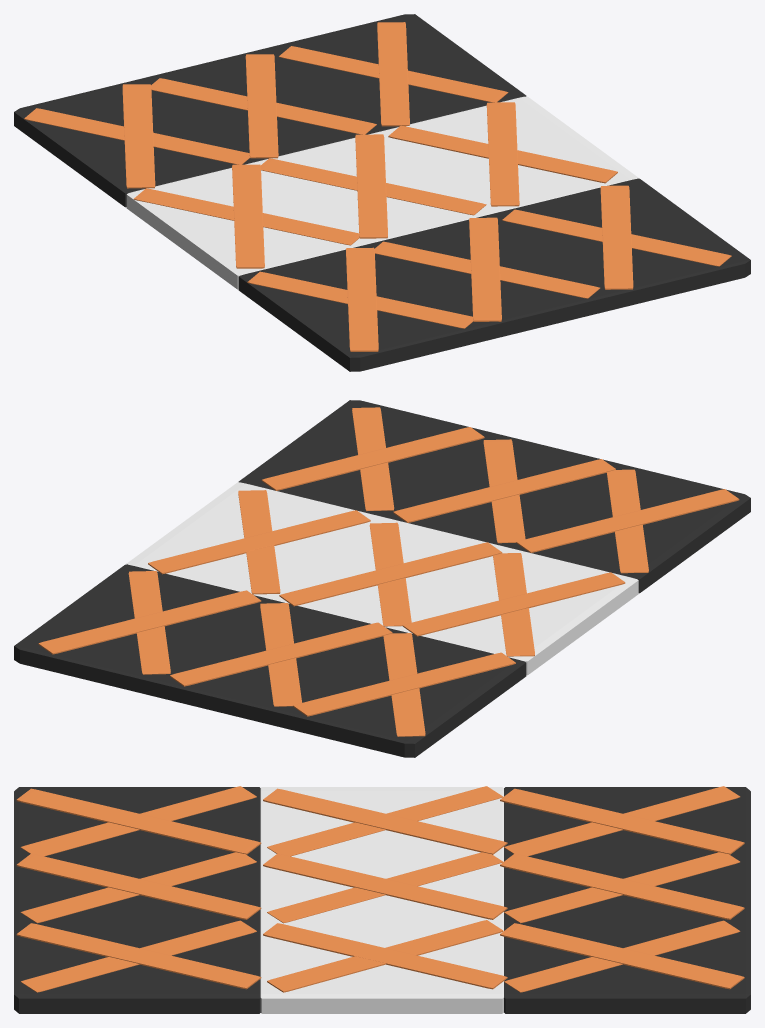
File: MovingWall.fbx
3 views of the same model, one above another, from view 1: azimuth 30°, elevation 25°; view 2: azimuth 150°, elevation 25°; view 3: azimuth 270°, elevation 25° (orthographic). The views are drawn at different scales.
Parts seen in each view (by area): view 1: Cube.002, Cube.008, Cube.004, Cube.020, Cube.013, Cube.006, Cube.012, Cube.009, Cube.015, Cube.017, Cube.018; view 2: Cube.002, Cube.008, Cube.013, Cube.009, Cube.020, Cube.004, Cube.015, Cube.006, Cube.012, Cube.017, Cube.018; view 3: Cube.002, Cube.008, Cube.020, Cube.013, Cube.006, Cube.012, Cube.015, Cube.004, Cube.009, Cube.017, Cube.018.
Part boxes in pixels (x1=…): Cube.002: x1=14, y1=14, x2=750, y2=371; Cube.008: x1=388, y1=102, x2=617, y2=206; Cube.004: x1=133, y1=164, x2=359, y2=268; Cube.020: x1=502, y1=185, x2=731, y2=289; Cube.013: x1=278, y1=22, x2=508, y2=126; Cube.006: x1=260, y1=134, x2=486, y2=238; Cube.012: x1=151, y1=54, x2=376, y2=158; Cube.009: x1=24, y1=84, x2=250, y2=188; Cube.015: x1=247, y1=247, x2=473, y2=351; Cube.017: x1=469, y1=217, x2=501, y2=321; Cube.018: x1=374, y1=241, x2=600, y2=298; Cube.002: x1=14, y1=400, x2=750, y2=757; Cube.008: x1=148, y1=490, x2=370, y2=594; Cube.013: x1=38, y1=571, x2=261, y2=674; Cube.009: x1=293, y1=633, x2=515, y2=736; Cube.020: x1=261, y1=407, x2=484, y2=511; Cube.004: x1=402, y1=553, x2=625, y2=656; Cube.015: x1=516, y1=469, x2=739, y2=573; Cube.006: x1=279, y1=522, x2=502, y2=626; Cube.012: x1=170, y1=603, x2=392, y2=706; Cube.017: x1=393, y1=459, x2=615, y2=522; Cube.018: x1=483, y1=439, x2=525, y2=543; Cube.002: x1=14, y1=787, x2=750, y2=1013; Cube.008: x1=263, y1=920, x2=507, y2=992; Cube.020: x1=16, y1=920, x2=261, y2=992; Cube.013: x1=500, y1=920, x2=744, y2=992; Cube.006: x1=263, y1=852, x2=507, y2=923; Cube.012: x1=500, y1=852, x2=744, y2=923; Cube.015: x1=16, y1=786, x2=261, y2=856; Cube.004: x1=263, y1=786, x2=507, y2=856; Cube.009: x1=500, y1=786, x2=744, y2=856; Cube.017: x1=16, y1=853, x2=261, y2=919; Cube.018: x1=20, y1=852, x2=256, y2=923.
Size of the model in its own units: 400 by 15.09 by 588.
